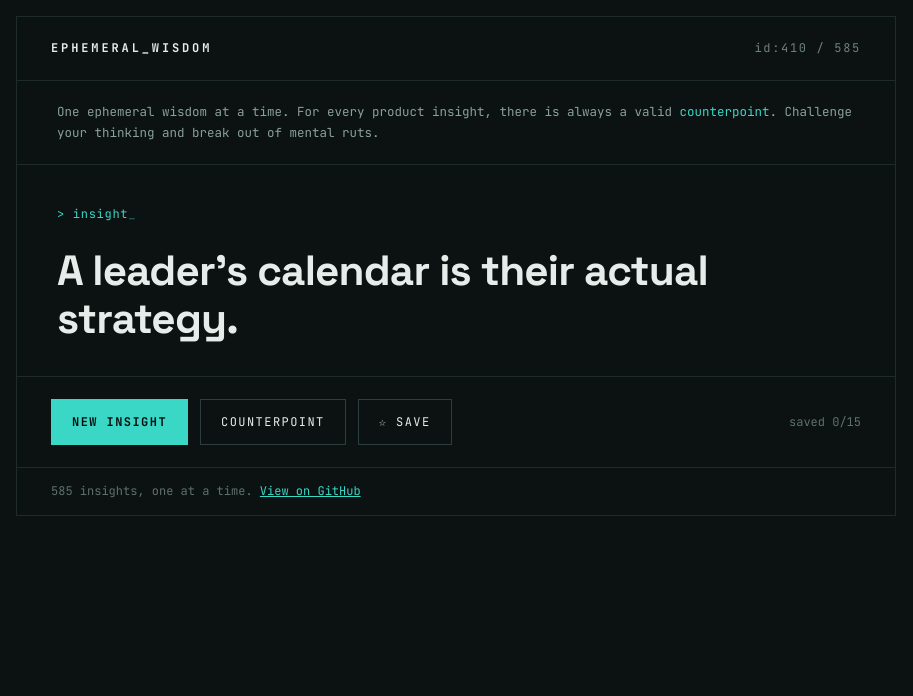
Test: App › saves the current insight and lists it under Saved insights
The image size is (913, 696).
Click the button "☆ Save" at (405, 422), box [358,399,452,445]
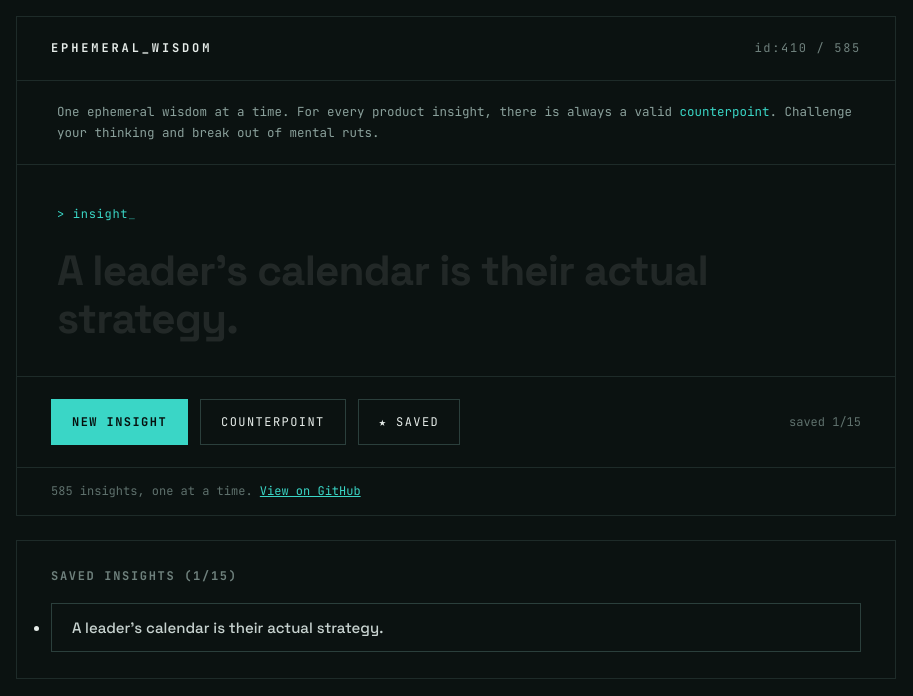
Expected: the heading "Saved insights (1/15)" is shown, [51,568,238,584]
Expected: the button "A leader's calendar is their actual strategy." is shown, [51,602,861,652]
